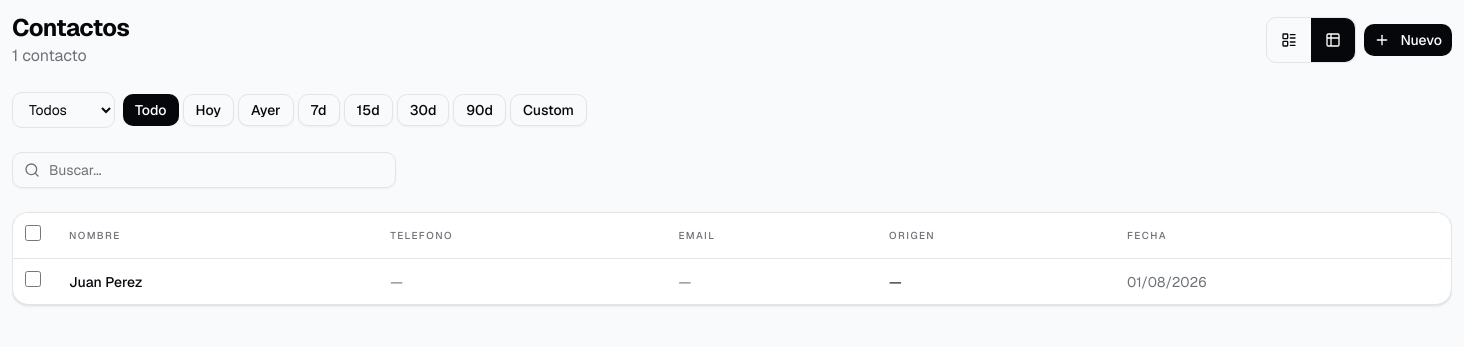
Test: ContactsPage — "Limpiar todo" y el buscador (D34) › con el buscador como único filtro, "Limpiar todo" igual aparece
Expected: the text "Juan Perez" is shown, [69,272,142,290]
Expected: the text "Limpiar todo" is not shown
Type "perez" into the field with placeholder "Buscar..." at [204, 170], box [12,152,396,188]
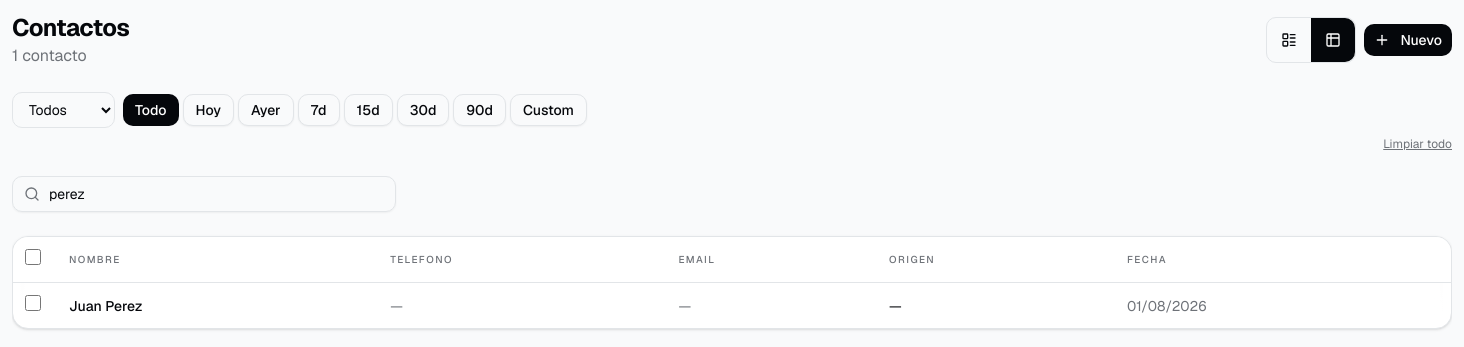
Expected: the button "Limpiar todo" is shown, [1383,136,1452,152]
